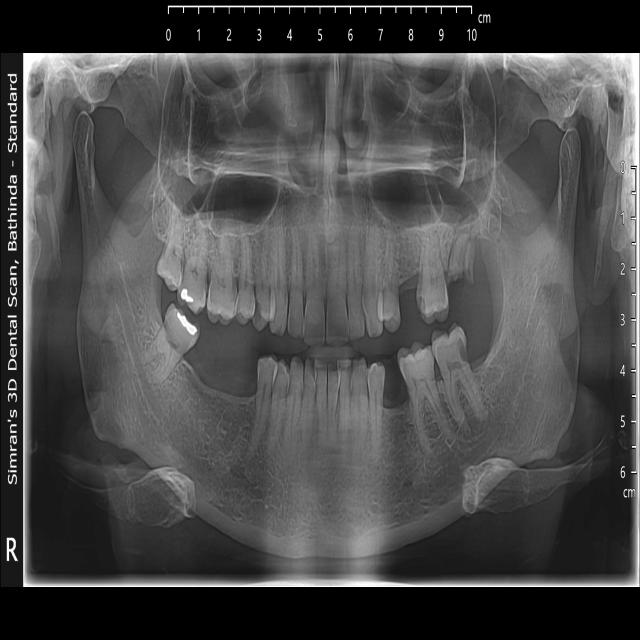Caries: (208, 272, 236, 321), (253, 289, 272, 329), (460, 336, 471, 364), (417, 297, 426, 323)
Filling: (177, 314, 196, 331), (181, 289, 193, 304)
Missing teeth: (187, 345, 251, 433), (387, 380, 408, 433), (398, 256, 415, 308)
Root Piece: (448, 232, 475, 288)
